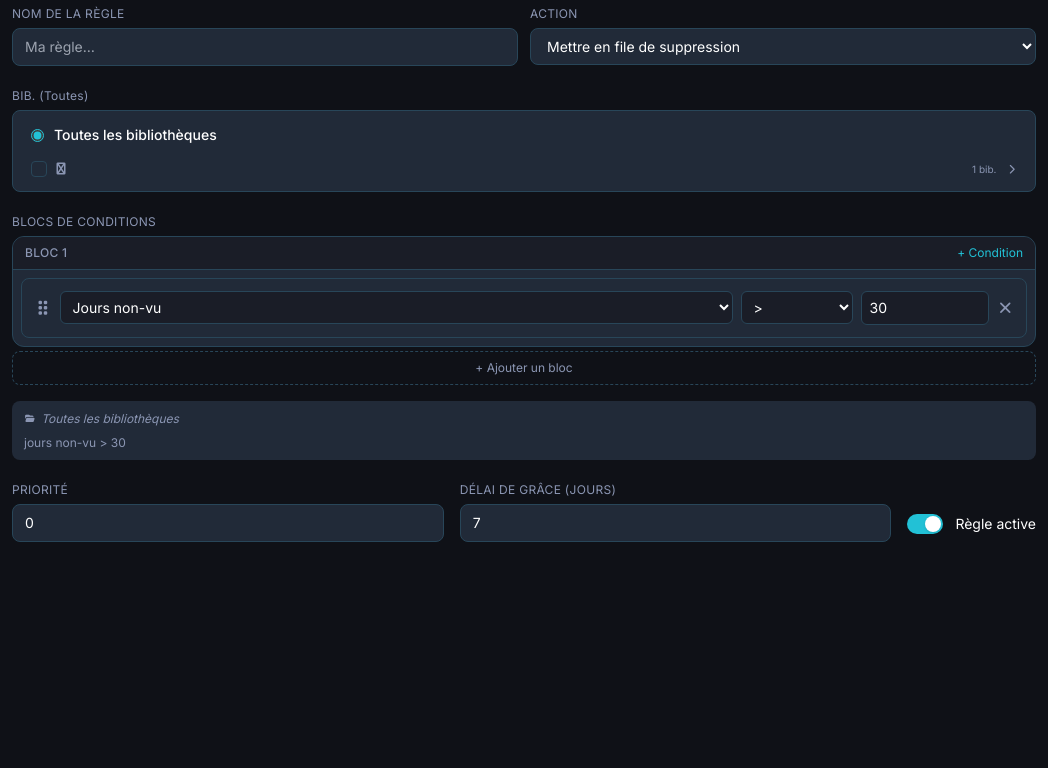
Test: ExpertRuleBuilder › "remove group" button appears once a second group is added, and removing it drops back to one group
Step 1. Click the button "+ Ajouter un bloc" → (524, 368), box [12,351,1036,385]
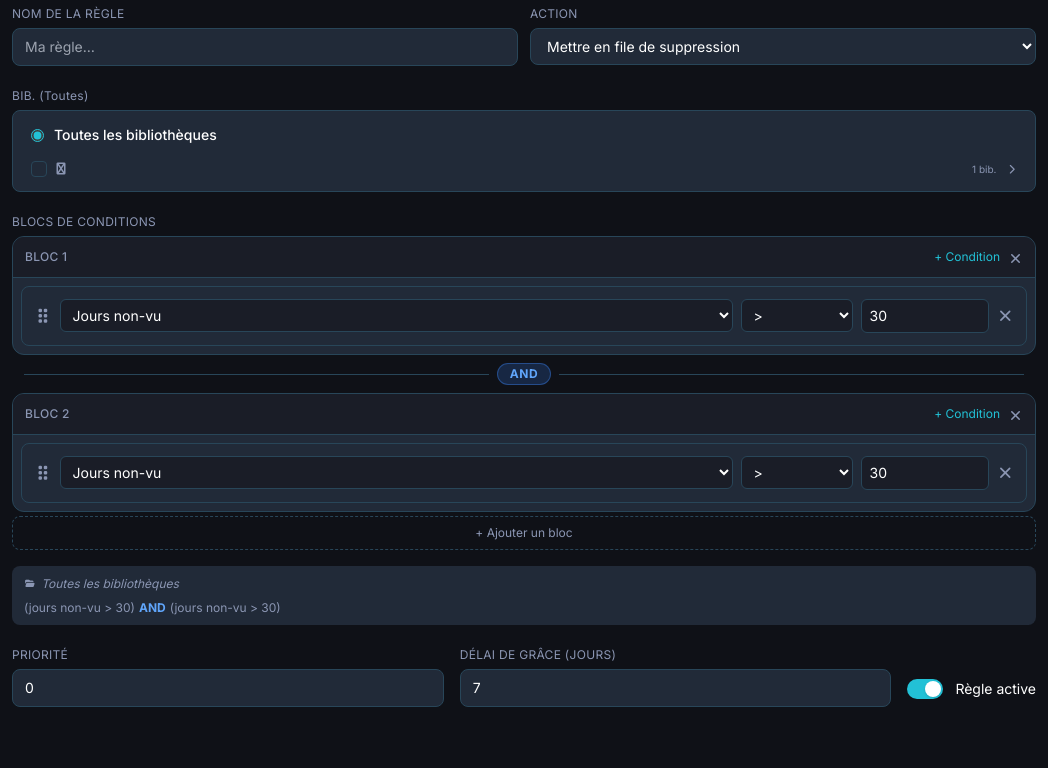
Now the number of icons with class "fa-xmark" is 4, box [1008,251,1023,267]; [996,306,1014,326]; [1008,408,1023,424]; [996,463,1014,483]
